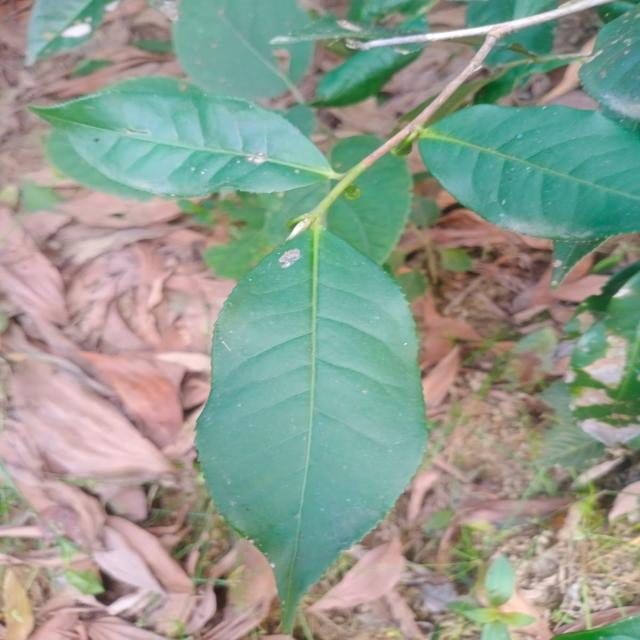Category D(7+ days, Not for Tea): (151, 207, 457, 640)
